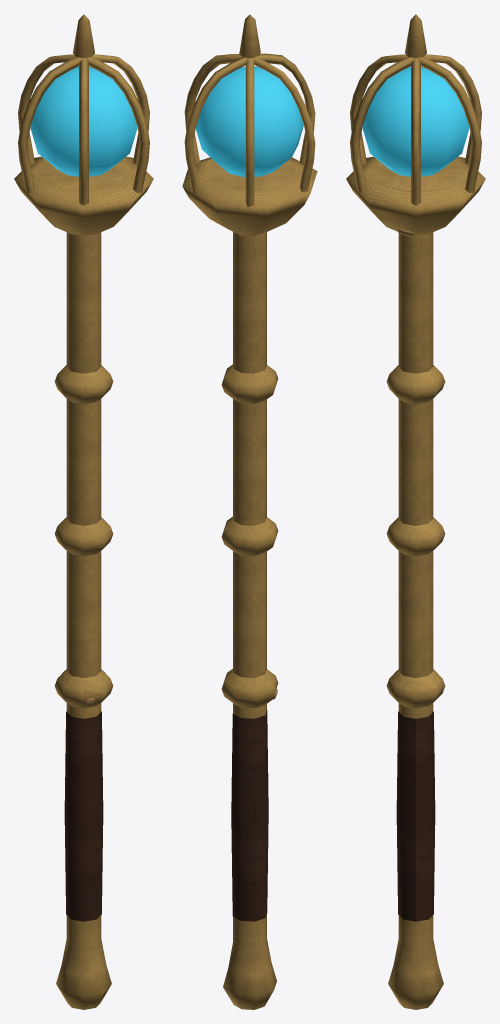
Rendered from scepter.lod2.glb.
The picture shows the model from 3 angles, left to right: view 1: azimuth 90°, elevation 25°; view 2: azimuth 150°, elevation 25°; view 3: azimuth 270°, elevation 25°; orthographic projection.
Parts seen in each view (by area): view 1: brass / polished brass furniture, leather / oiled leather wrap, crystal / faceted crystal; view 2: brass / polished brass furniture, crystal / faceted crystal, leather / oiled leather wrap; view 3: brass / polished brass furniture, leather / oiled leather wrap, crystal / faceted crystal.
Part boxes in pixels (bbox=[...]): brass / polished brass furniture: bbox=[14, 14, 153, 1009]; leather / oiled leather wrap: bbox=[64, 711, 103, 921]; crystal / faceted crystal: bbox=[30, 66, 137, 176]; brass / polished brass furniture: bbox=[182, 14, 317, 1009]; crystal / faceted crystal: bbox=[195, 66, 303, 177]; leather / oiled leather wrap: bbox=[231, 710, 268, 921]; brass / polished brass furniture: bbox=[346, 14, 485, 1009]; leather / oiled leather wrap: bbox=[396, 711, 435, 921]; crystal / faceted crystal: bbox=[362, 66, 469, 176].
Size of the model in its own units: 0.1079 by 0.78 by 0.1.
Materials: 4 (2 with a texture image).
